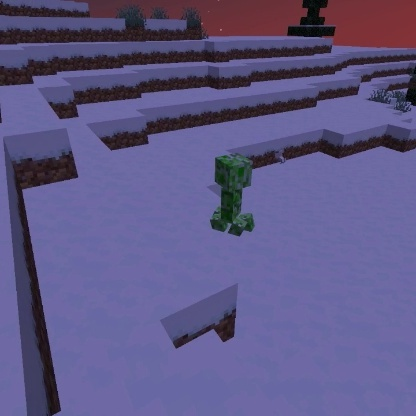creeper: (207, 151, 256, 239)
